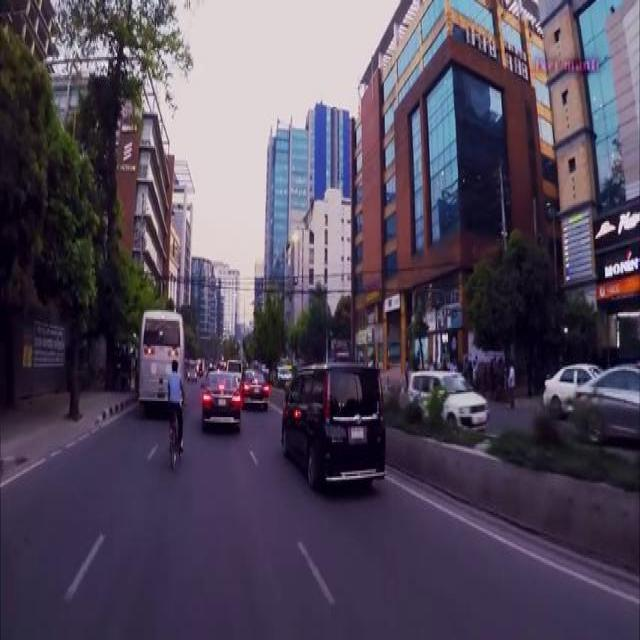bus: (136, 307, 184, 403)
car: (573, 362, 638, 440), (407, 367, 488, 428), (541, 362, 597, 408), (200, 362, 241, 421), (238, 366, 268, 401)
motorcycle: (185, 356, 197, 378)
truck: (277, 358, 385, 483)
